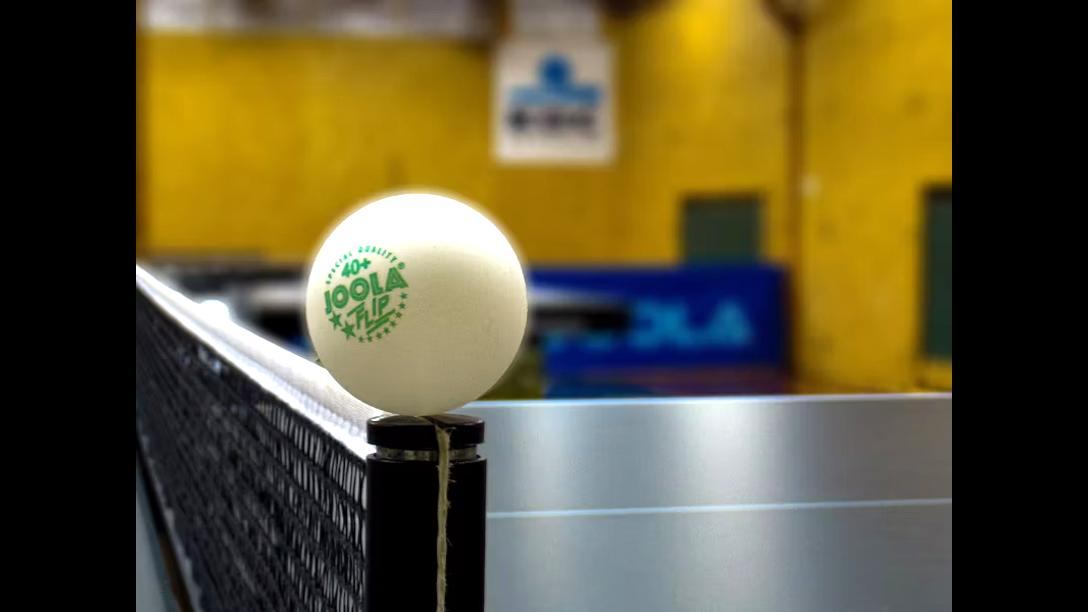Table-Tennis-Ball: (306, 194, 526, 410)
